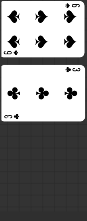3C: (64, 65, 82, 73)
